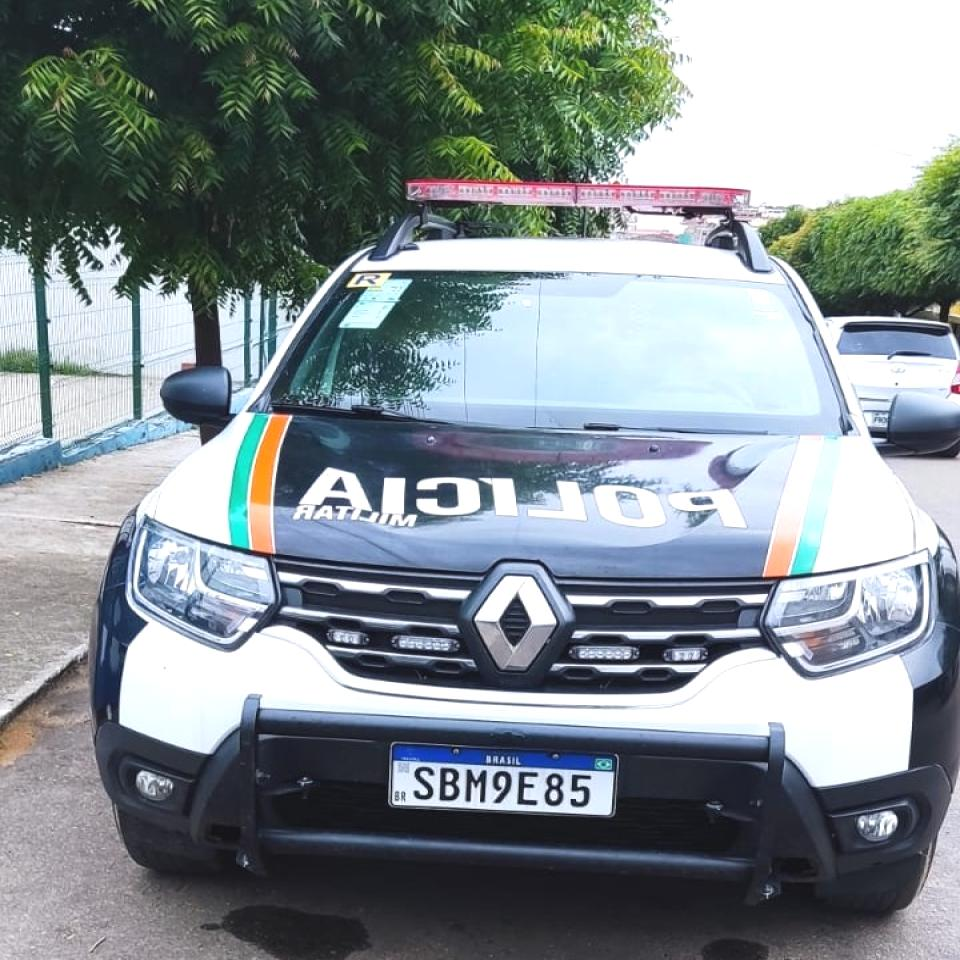viatura: (91, 167, 960, 930)
